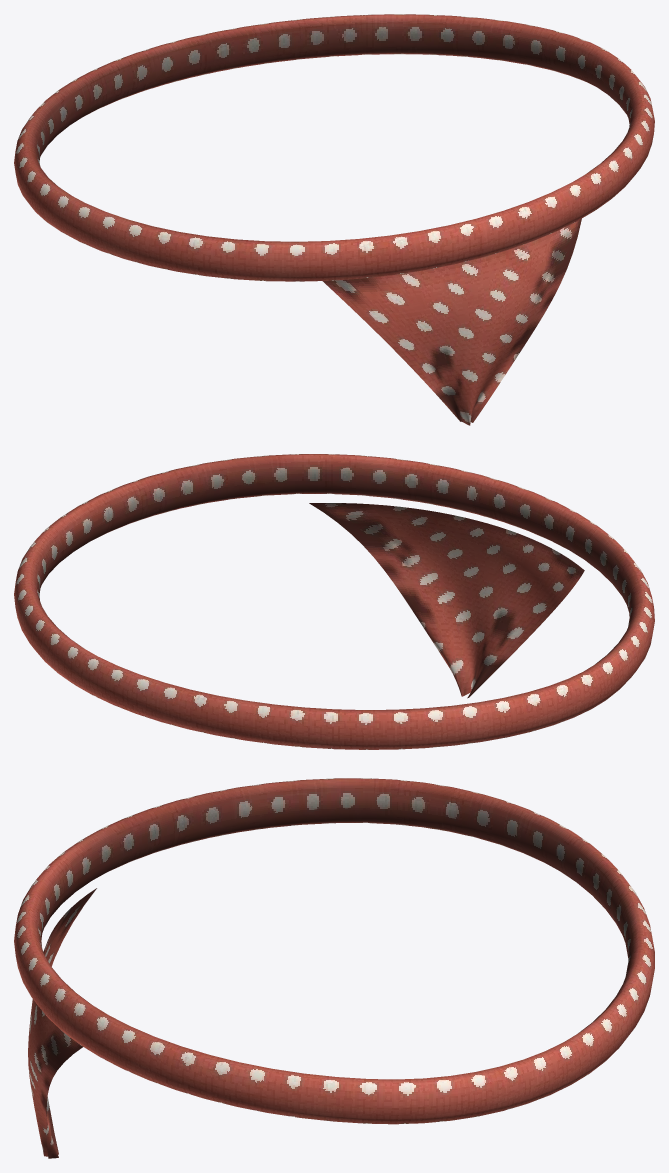
The model's file is bandana.glb.
The picture shows the model from 3 angles, top to bottom: view 1: azimuth 30°, elevation 25°; view 2: azimuth 150°, elevation 25°; view 3: azimuth 270°, elevation 25°; orthographic projection. The views are drawn at different scales.
Visible parts, largest first — view 1: bandana_knot, bandana_tri; view 2: bandana_knot, bandana_tri; view 3: bandana_knot, bandana_tri.
Part boxes in pixels (x1,y1,x2,y2): bandana_knot: [14, 14, 654, 281]; bandana_tri: [322, 218, 581, 425]; bandana_knot: [14, 454, 654, 749]; bandana_tri: [309, 503, 584, 698]; bandana_knot: [14, 778, 654, 1124]; bandana_tri: [28, 888, 96, 1158].
Bounding box in the file's own units: 25.21 × 8.98 × 21.85.
Materials: 1 (1 with a texture image).
